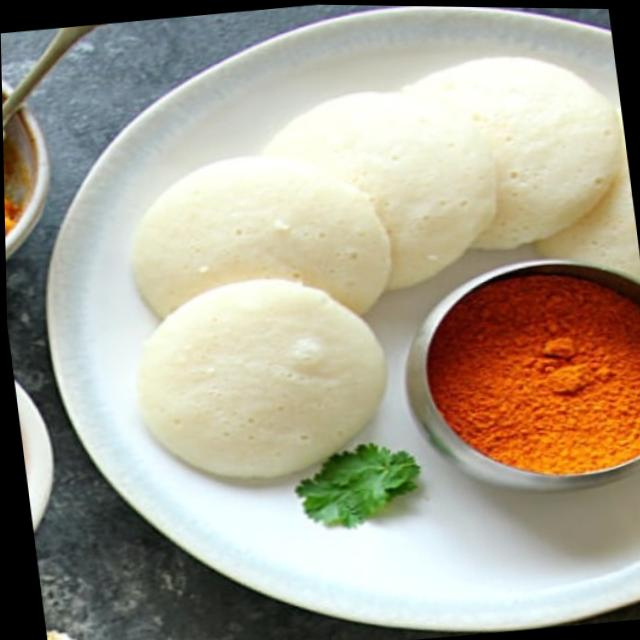IDLI: (127, 57, 640, 480)
PODI: (428, 267, 640, 474)
